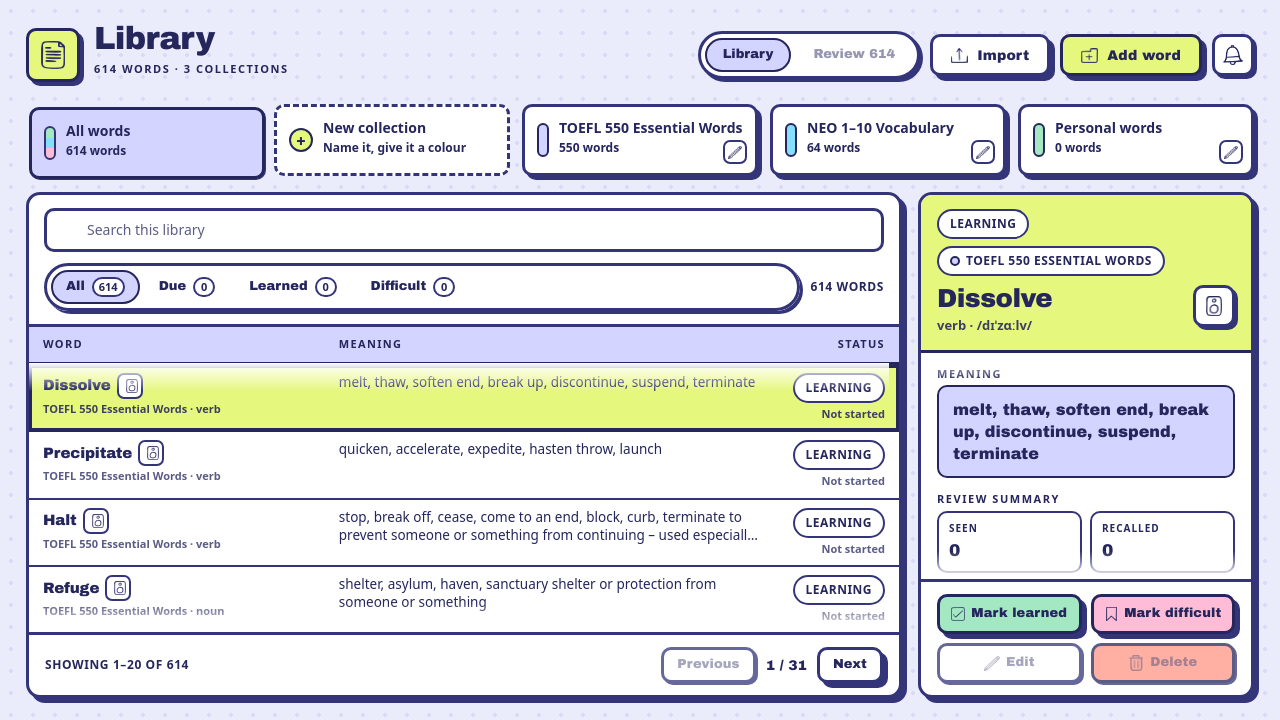
Test: VocabularyLibrary accessibility › pages the table twenty words at a time
This screenshot has width=1280, height=720.
Expected: the button "Previous" is disabled, [661,647,756,683]
Click the button "Next" at x=850, y=665, box [817,647,883,683]
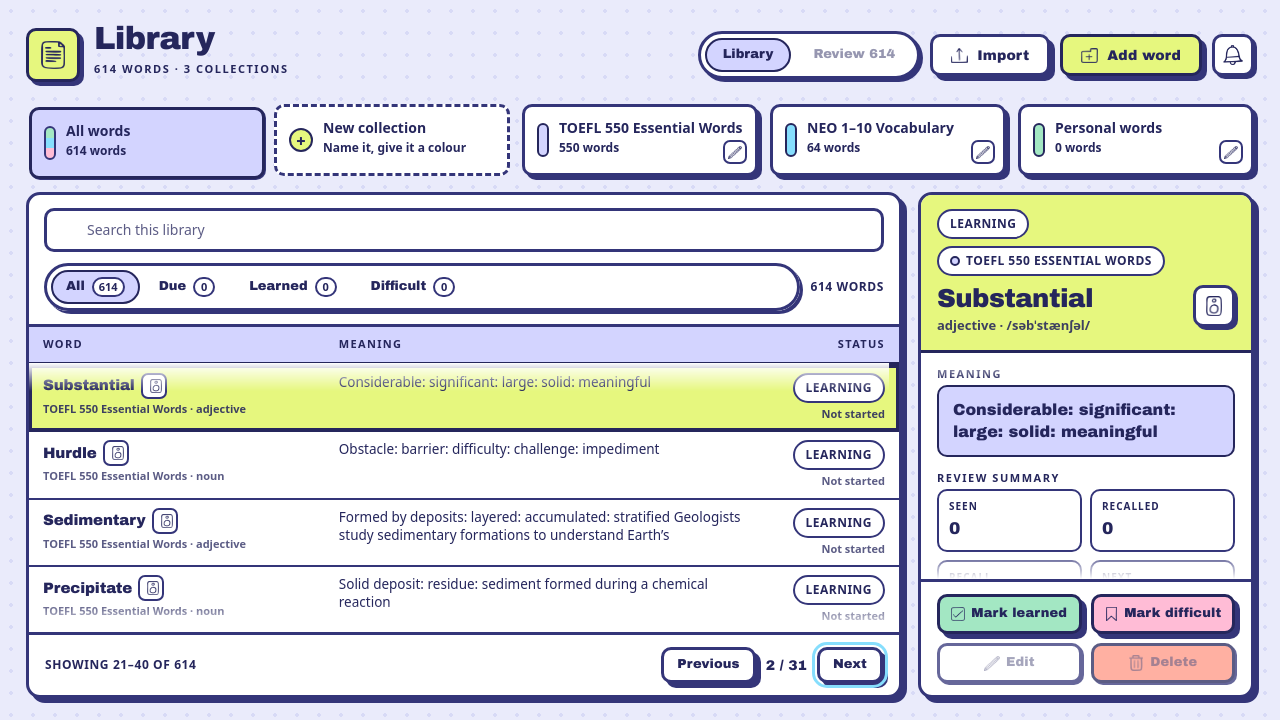
Expected: the button "Dissolve" no longer shows "Dissolve"
Expected: the button "Previous" is enabled, [661,647,756,683]
